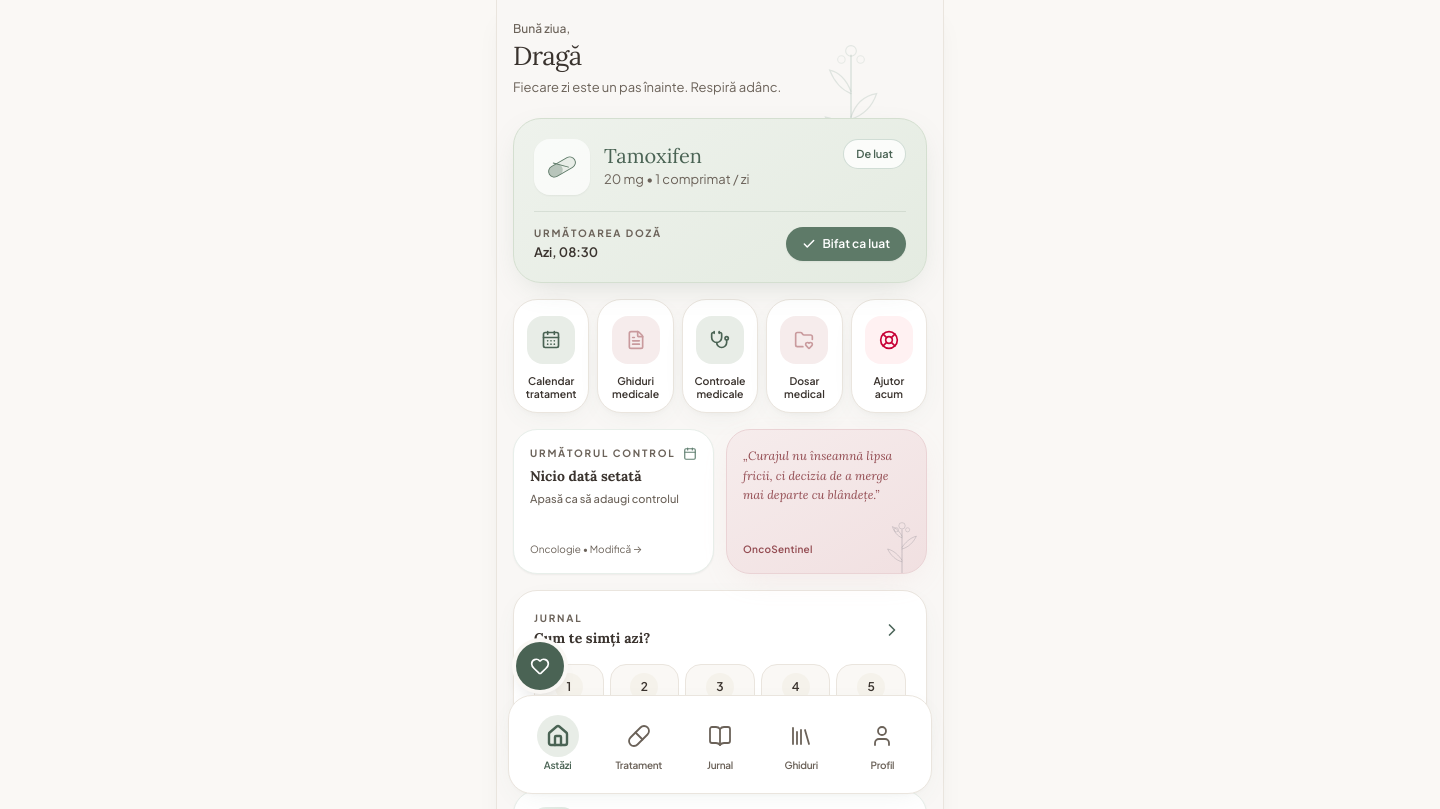
Scenario: Back pe telefon › închide fereastra deschisă și rămâne pe același ecran
Click the button "Ajutor".
click(889, 356)  # box top-left (851, 299), bottom-right (927, 413)
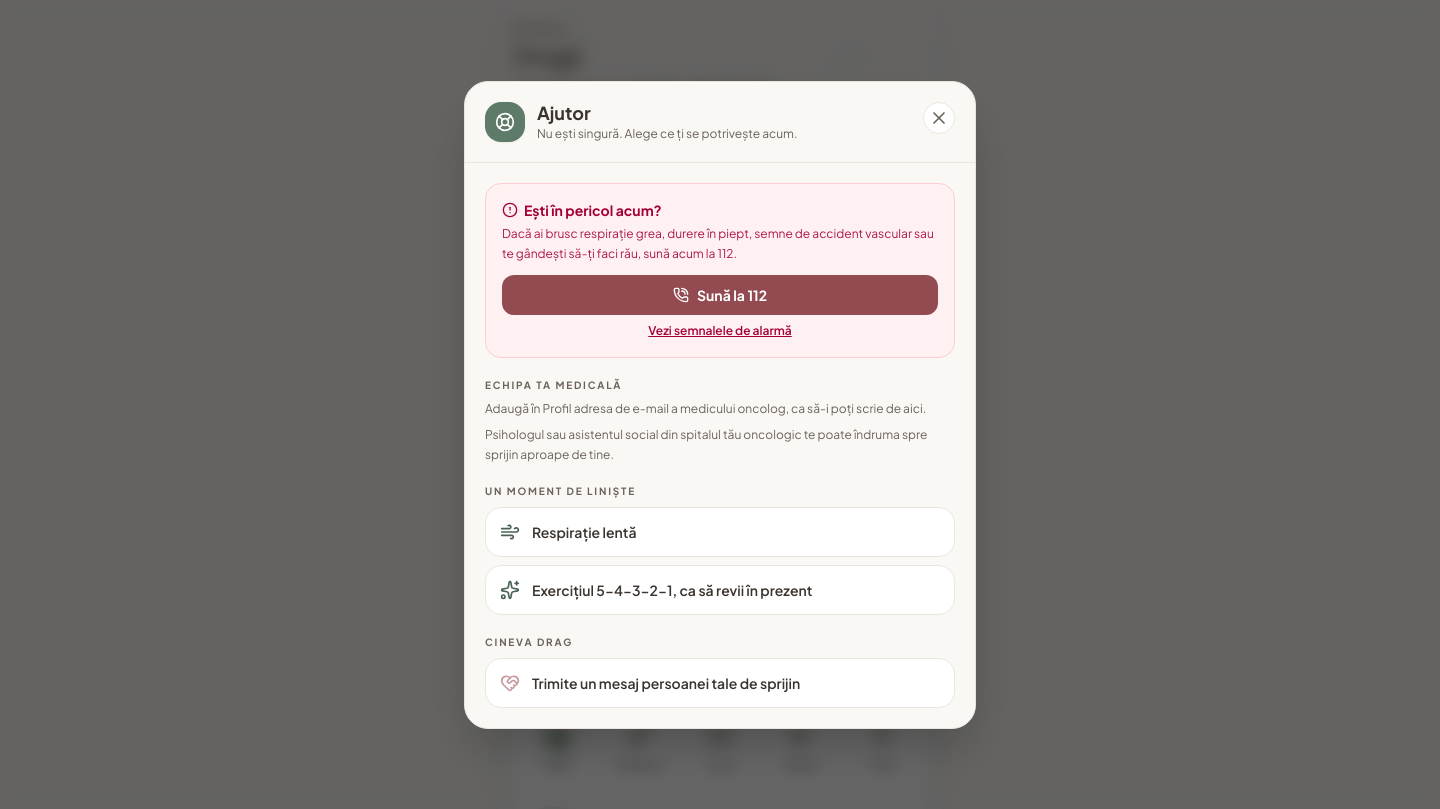
Expected: the dialog is shown, top-left (464, 81), bottom-right (976, 729)
